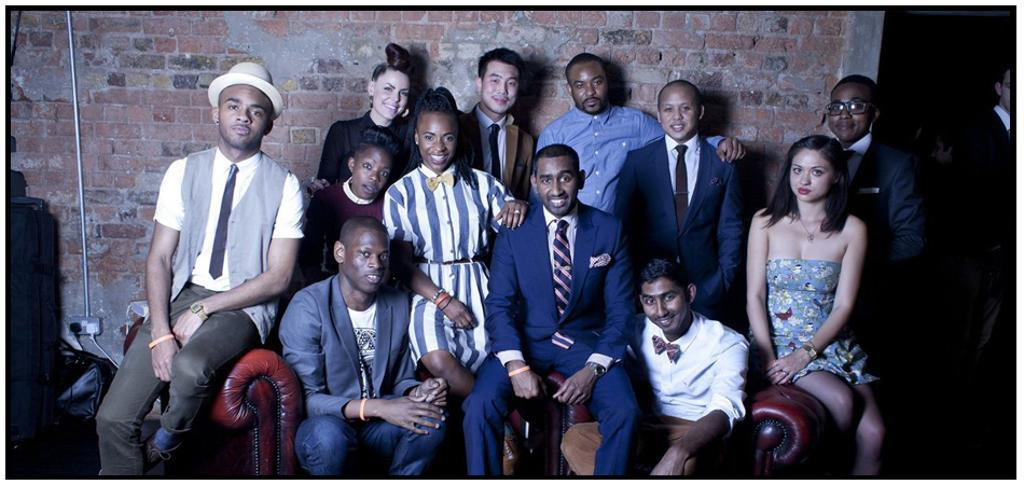face: (220, 88, 269, 149), (346, 229, 390, 294), (641, 283, 688, 334), (537, 159, 578, 215), (419, 114, 459, 170), (830, 87, 871, 141), (790, 150, 831, 201), (568, 64, 607, 114), (660, 90, 699, 140), (483, 62, 519, 114), (356, 149, 392, 200), (374, 71, 410, 120), (1002, 72, 1010, 111)
